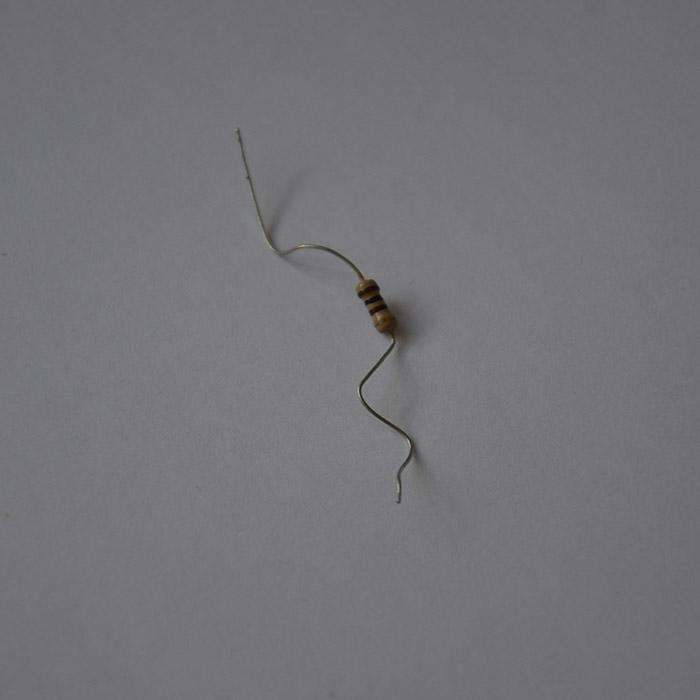resistor: (353, 275, 394, 334)
